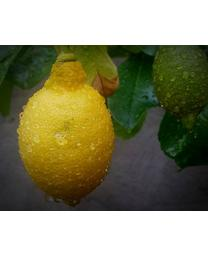lemon: (18, 55, 118, 207)
